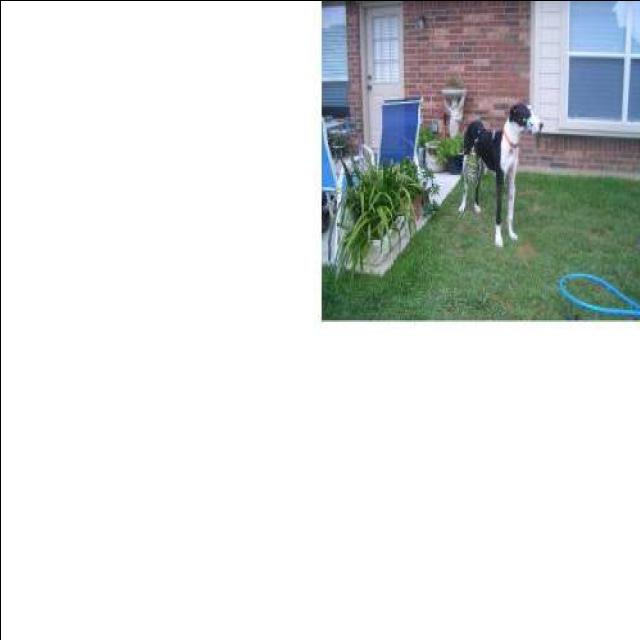dog: (438, 87, 554, 249)
